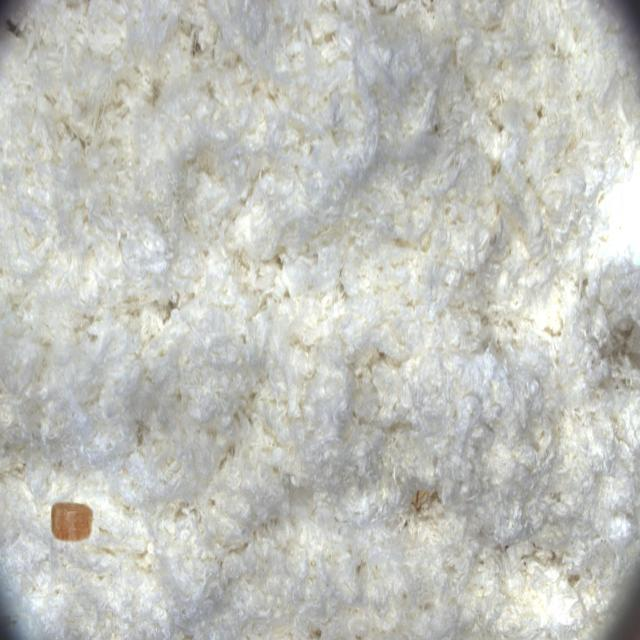dust: (19, 462, 120, 570)
